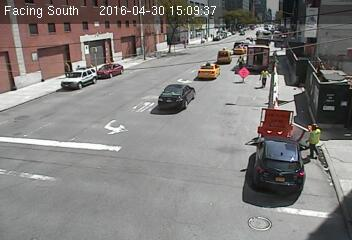neg: (108, 178, 131, 209), (258, 2, 279, 29), (207, 184, 224, 207), (203, 59, 218, 80), (208, 122, 223, 142), (124, 83, 136, 99), (80, 78, 91, 92), (163, 95, 172, 108)
pos: (299, 121, 327, 159), (256, 68, 272, 88), (58, 58, 72, 77), (235, 55, 246, 70)
